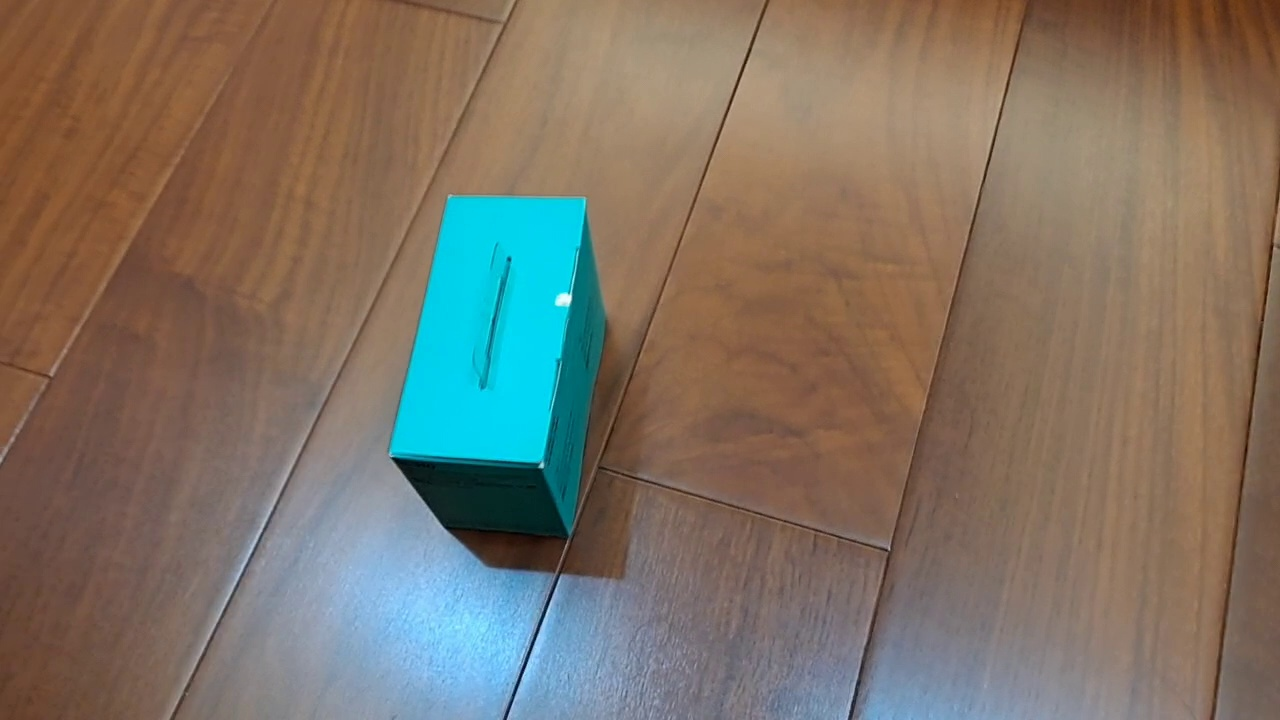webcam: (386, 193, 609, 540)
